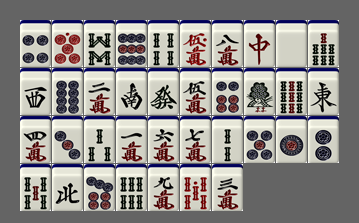0m: (180, 20, 211, 67)
0p: (52, 20, 83, 67)
0s: (180, 164, 211, 211)
1m: (116, 116, 147, 163)
1p: (276, 116, 307, 163)
1s: (244, 68, 275, 115)
1z: (308, 68, 339, 115)
2m: (84, 68, 115, 115)
2p: (308, 116, 339, 163)
2s: (212, 116, 243, 163)
2z: (116, 68, 147, 115)
3m: (212, 164, 243, 211)
3p: (52, 116, 83, 163)
3s: (84, 116, 115, 163)
3z: (20, 68, 51, 115)
4m: (20, 116, 51, 163)
4p: (20, 20, 51, 67)
4s: (148, 20, 179, 67)
4z: (52, 164, 83, 211)
5m: (180, 68, 211, 115)
5p: (244, 116, 275, 163)
5s: (20, 164, 51, 211)
5z: (276, 20, 307, 67)
6m: (148, 116, 179, 163)
6p: (212, 68, 243, 115)
6s: (116, 164, 147, 211)
6z: (148, 68, 179, 115)
7m: (180, 116, 211, 163)
7p: (84, 164, 115, 211)
7s: (308, 20, 339, 67)
7z: (244, 20, 275, 67)
8m: (212, 20, 243, 67)
8p: (52, 68, 83, 115)
8s: (84, 20, 115, 67)
9m: (148, 164, 179, 211)
9p: (116, 20, 147, 67)
9s: (276, 68, 307, 115)
